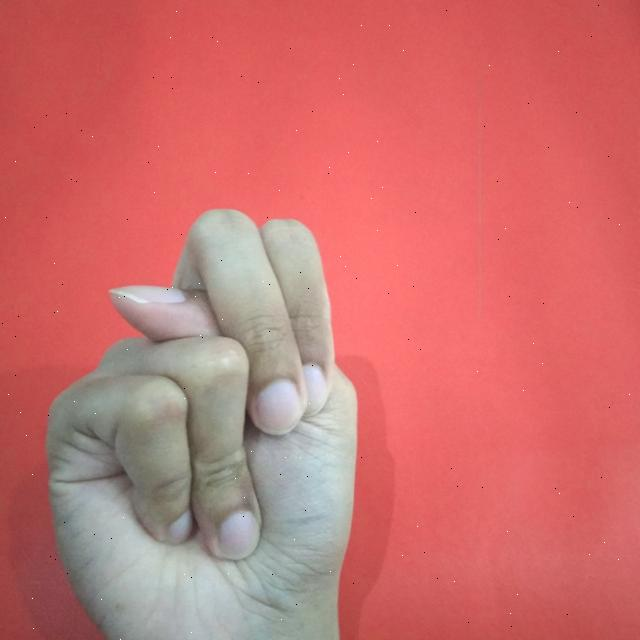N: (40, 203, 360, 640)
